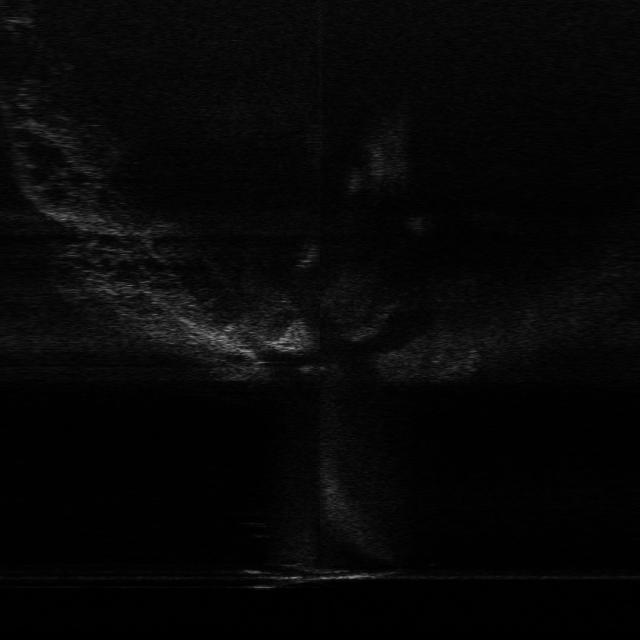plane: (234, 562, 400, 592)
